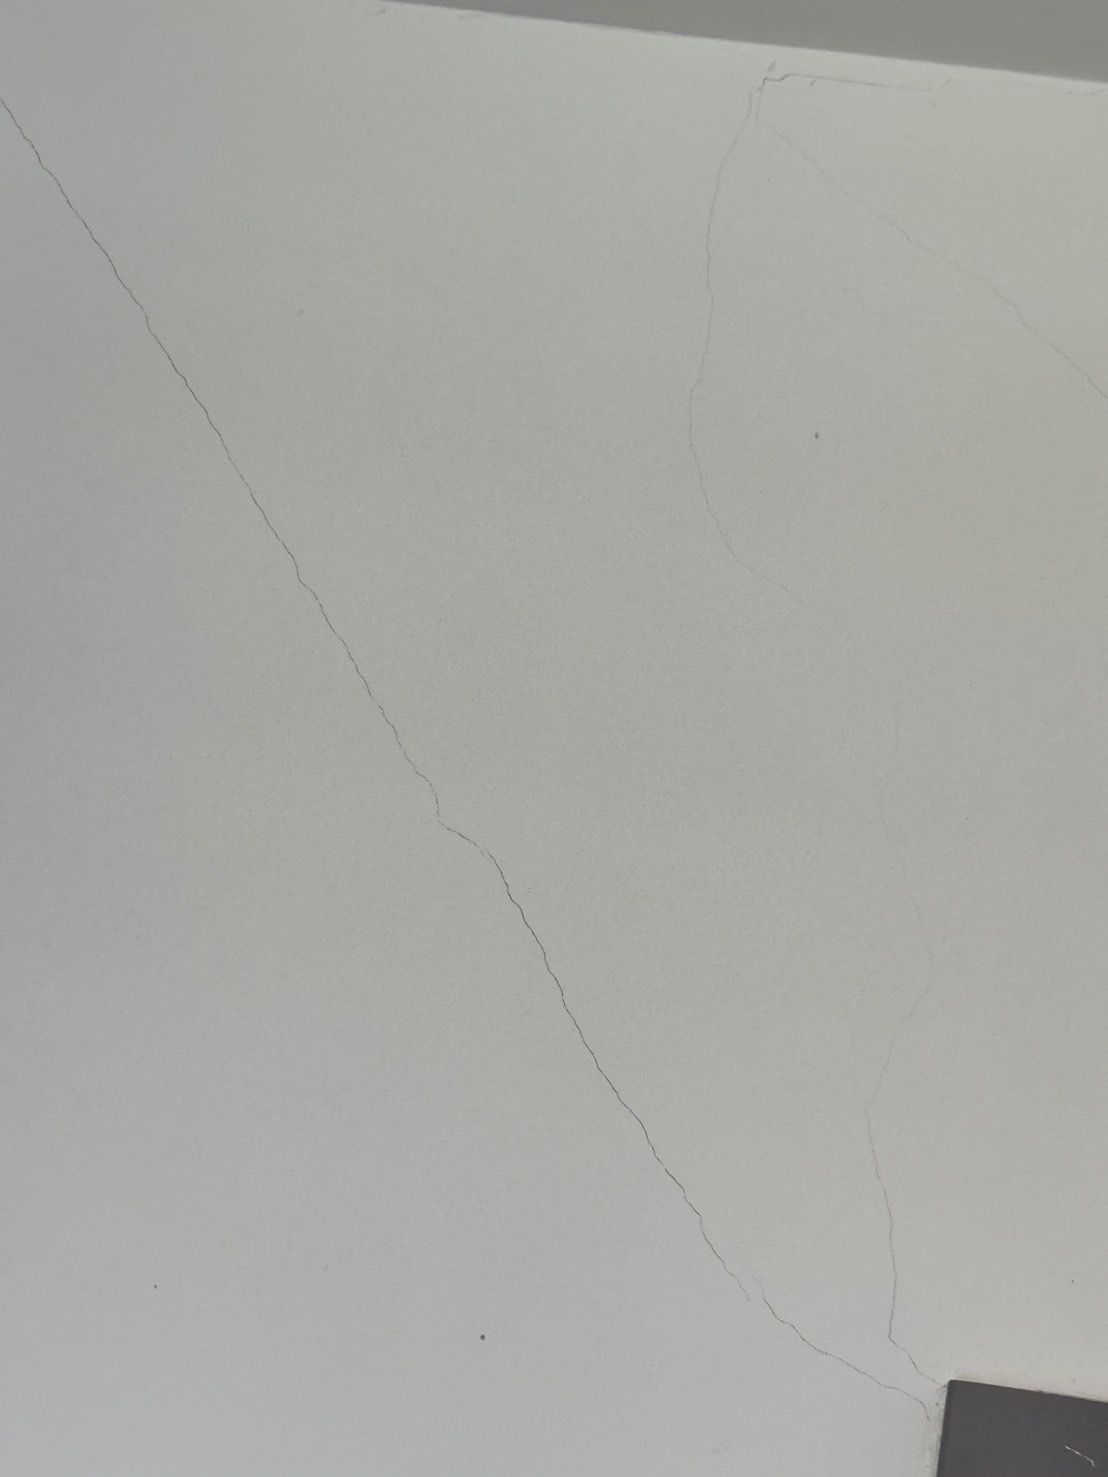Low: (1, 81, 970, 1464)
